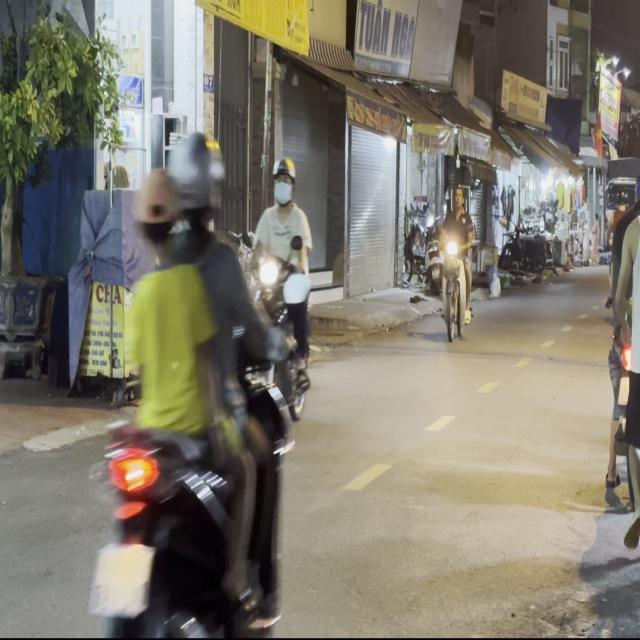helmet: (165, 128, 222, 233), (270, 155, 295, 205), (634, 162, 640, 210)
licenseplate: (86, 125, 297, 631), (244, 154, 315, 433), (597, 141, 640, 548)
motorcyclist: (132, 165, 179, 259)
nohelmet: (93, 543, 152, 613)
